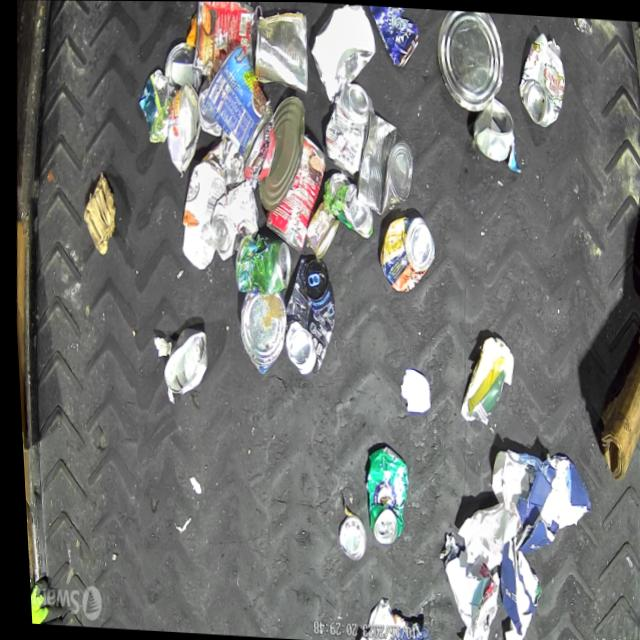can: (198, 40, 278, 161), (257, 130, 329, 252), (432, 9, 509, 114), (274, 255, 336, 376), (348, 108, 415, 215), (251, 92, 308, 211), (513, 29, 569, 128), (318, 80, 376, 175), (249, 6, 310, 94), (355, 443, 407, 546), (189, 1, 258, 76), (373, 212, 435, 293), (205, 177, 260, 263), (231, 290, 286, 375), (230, 232, 291, 296), (162, 79, 203, 174), (364, 4, 421, 70), (155, 327, 206, 400), (318, 170, 372, 237), (467, 94, 515, 158), (300, 199, 339, 259), (161, 40, 202, 92), (194, 76, 223, 137), (330, 513, 361, 559), (636, 167, 640, 263)
